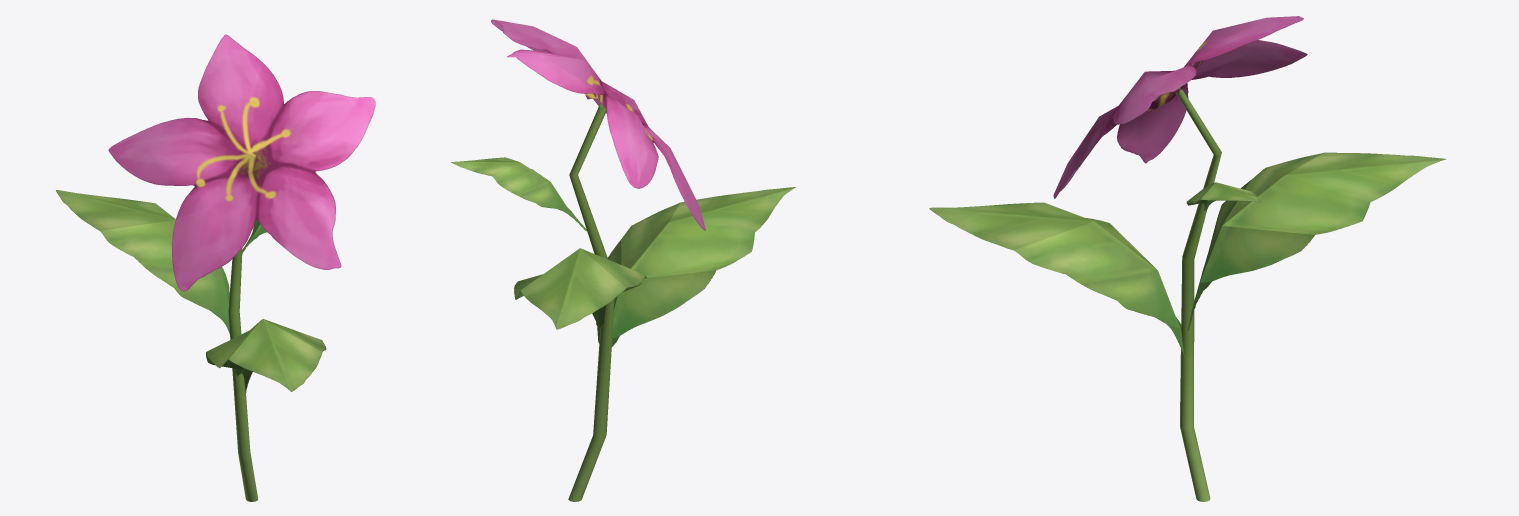
Rendered from bunga 2_rev1.fbx.
The picture shows the model from 3 angles, left to right: view 1: azimuth 30°, elevation 25°; view 2: azimuth 150°, elevation 25°; view 3: azimuth 270°, elevation 25°; orthographic projection. The views are drawn at different scales.
Parts seen in each view (by area): view 1: bunga merah 3.Kelopak, bunga merah 3.Daun2, bunga merah 3.Daun3, bunga merah 3.Batang; view 2: bunga merah 3.Daun3, bunga merah 3.Kelopak, bunga merah 3.Daun2, bunga merah 3.Batang, bunga merah 3.Daun1; view 3: bunga merah 3.Daun2, bunga merah 3.Daun3, bunga merah 3.Kelopak, bunga merah 3.Batang, bunga merah 3.Daun1.
Boxes of the visible parts, box(x1,y1,x2,y2) form: bunga merah 3.Kelopak: box(108, 34, 375, 291); bunga merah 3.Daun2: box(56, 190, 229, 333); bunga merah 3.Daun3: box(206, 319, 326, 392); bunga merah 3.Batang: box(228, 248, 257, 501); bunga merah 3.Daun3: box(598, 187, 795, 389); bunga merah 3.Kelopak: box(491, 19, 705, 230); bunga merah 3.Daun2: box(514, 248, 646, 343); bunga merah 3.Batang: box(568, 104, 614, 501); bunga merah 3.Daun1: box(451, 157, 586, 231); bunga merah 3.Daun2: box(1187, 152, 1446, 330); bunga merah 3.Daun3: box(929, 202, 1184, 357); bunga merah 3.Kelopak: box(1053, 16, 1307, 198); bunga merah 3.Batang: box(1176, 88, 1221, 501); bunga merah 3.Daun1: box(1186, 182, 1260, 210).
Size of the model in its own units: 95.09 by 155 by 178.
Materials: 1 (1 with a texture image).
